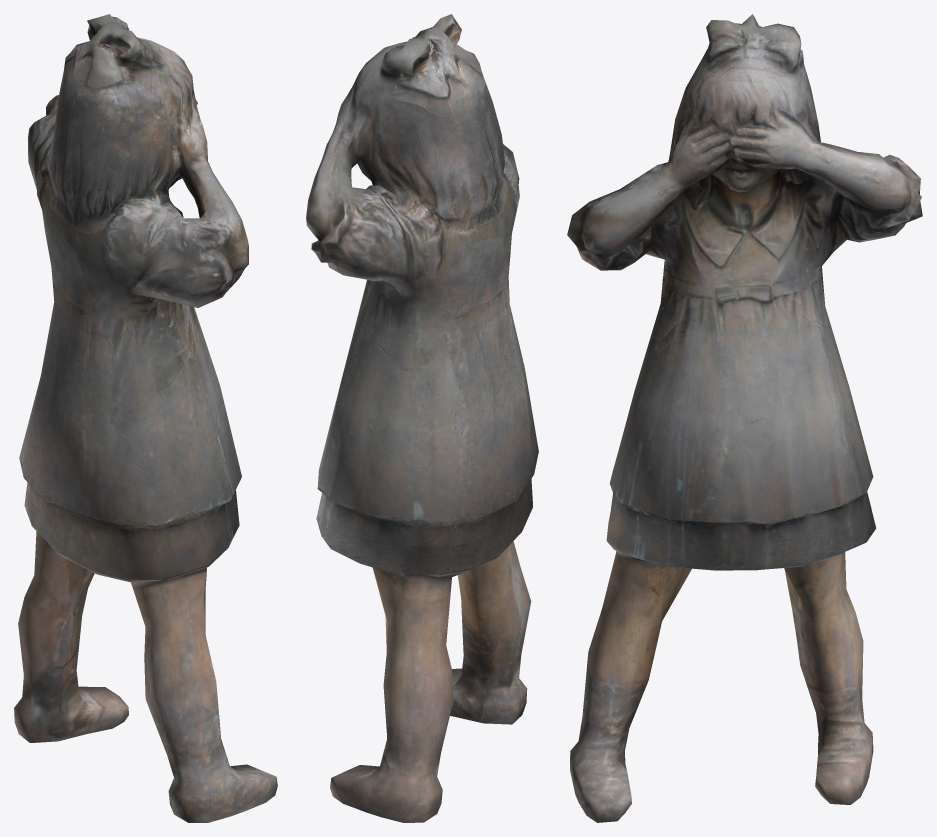
File: Statue01.FBX
3 views of the same model, side by side, from view 1: azimuth 30°, elevation 25°; view 2: azimuth 150°, elevation 25°; view 3: azimuth 270°, elevation 25° (orthographic). The views are drawn at different scales.
Parts seen in each view (by area): view 1: Statue01; view 2: Statue01; view 3: Statue01.
Part boxes in pixels (x1,y1,x2,y2): Statue01: [14, 14, 277, 822]; Statue01: [306, 14, 538, 822]; Statue01: [567, 14, 922, 822].
Size of the model in its own units: 36.95 by 148 by 62.63.
